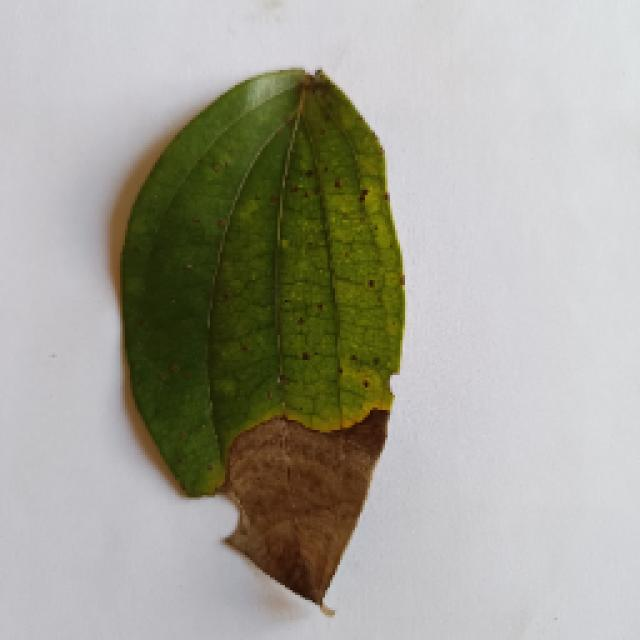footrot: (110, 68, 408, 610)
